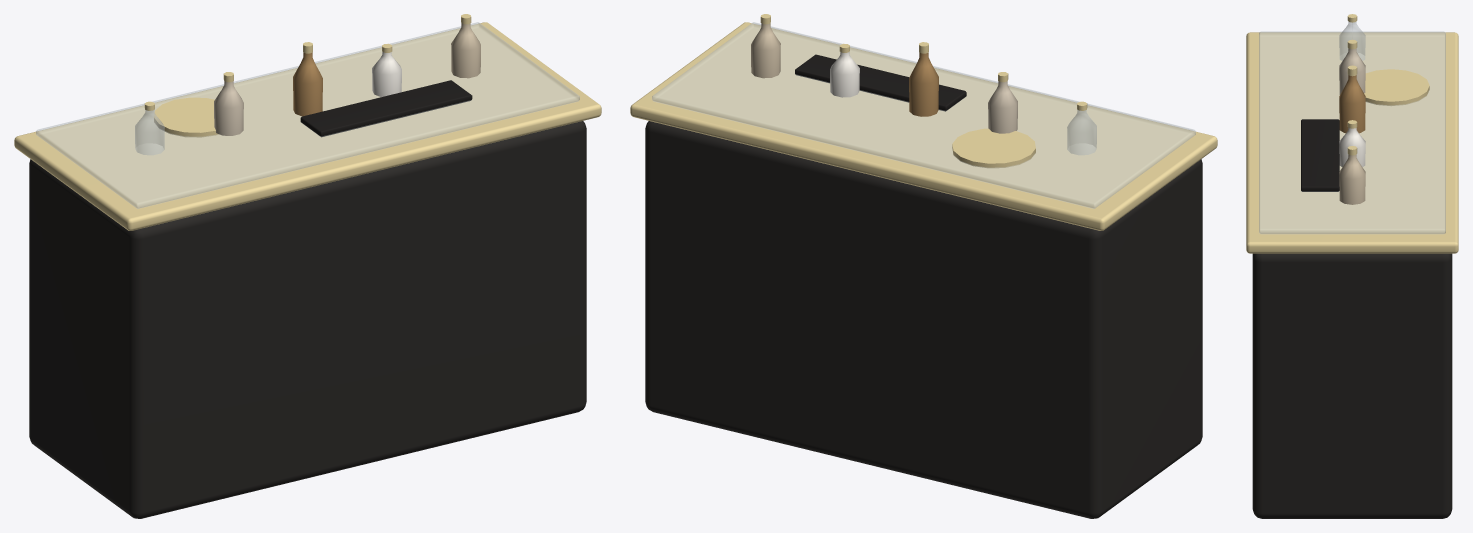
File: perfume_counter.glb
3 views of the same model, side by side, from view 1: azimuth 30°, elevation 25°; view 2: azimuth 150°, elevation 25°; view 3: azimuth 270°, elevation 25° (orthographic). The views are drawn at different scales.
Parts seen in each view (by area): view 1: perfume_counter; view 2: perfume_counter; view 3: perfume_counter.
Boxes of the visible parts, bbox=[...] form: perfume_counter: bbox=[14, 14, 601, 518]; perfume_counter: bbox=[630, 14, 1217, 518]; perfume_counter: bbox=[1246, 14, 1458, 518].
Bounding box in the file's own units: 1.56 × 1.21 × 0.66.
